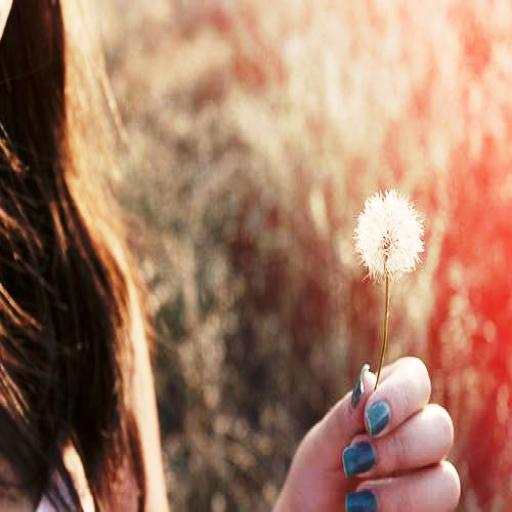dandelion: (356, 185, 424, 275)
